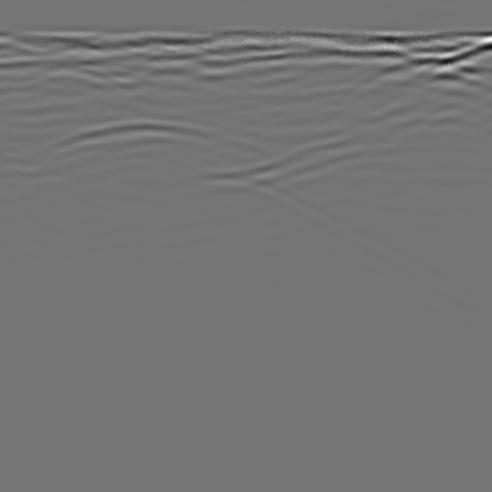hyperbola: (15, 103, 284, 223)
